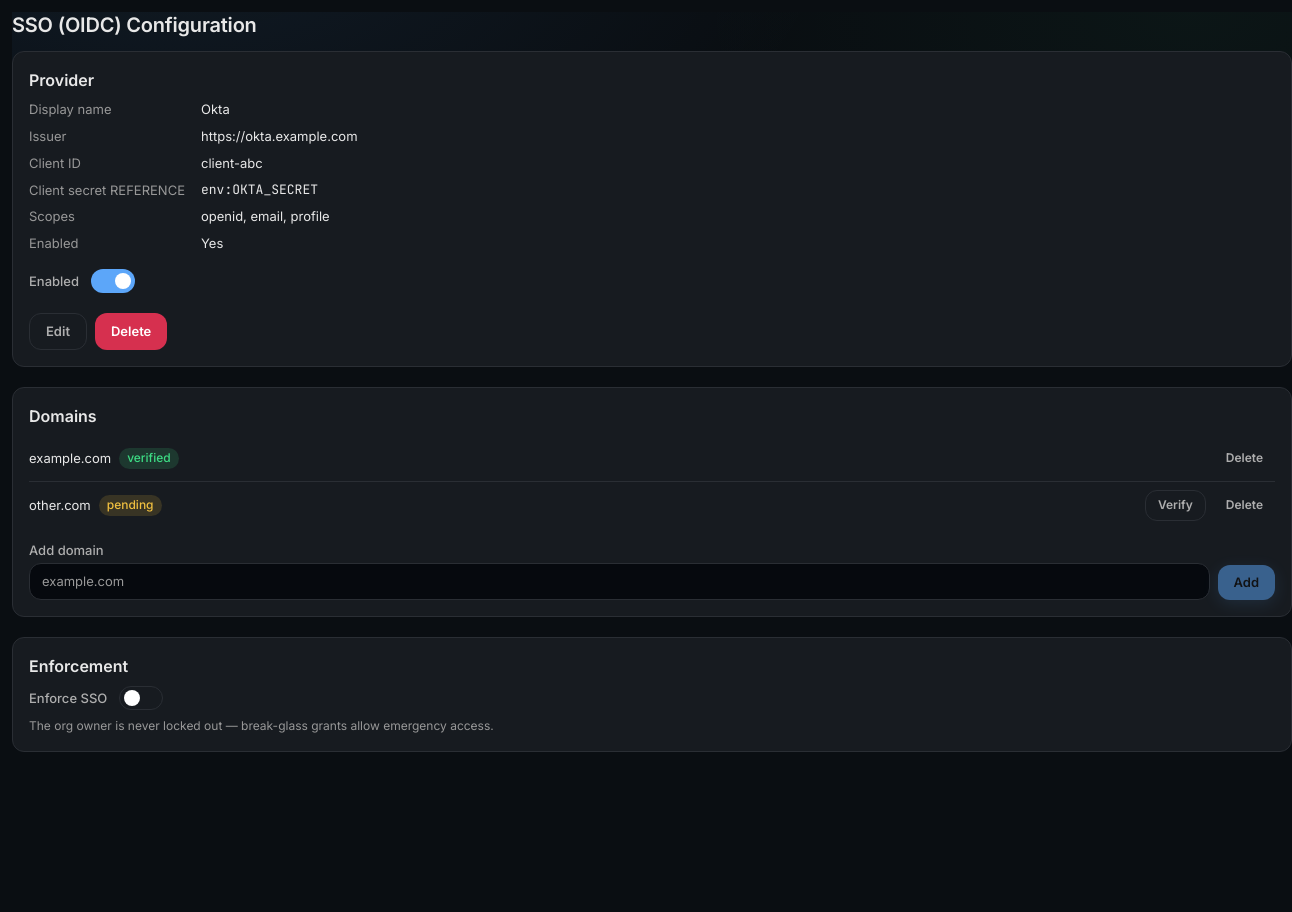
Scenario: SsoTab › adding a domain shows txt_record callout
Type domain and submit
Type "new.com" into the field labelled "Add domain".
click(619, 582); type("new.com")  # box x1=29 y1=563 x2=1210 y2=600
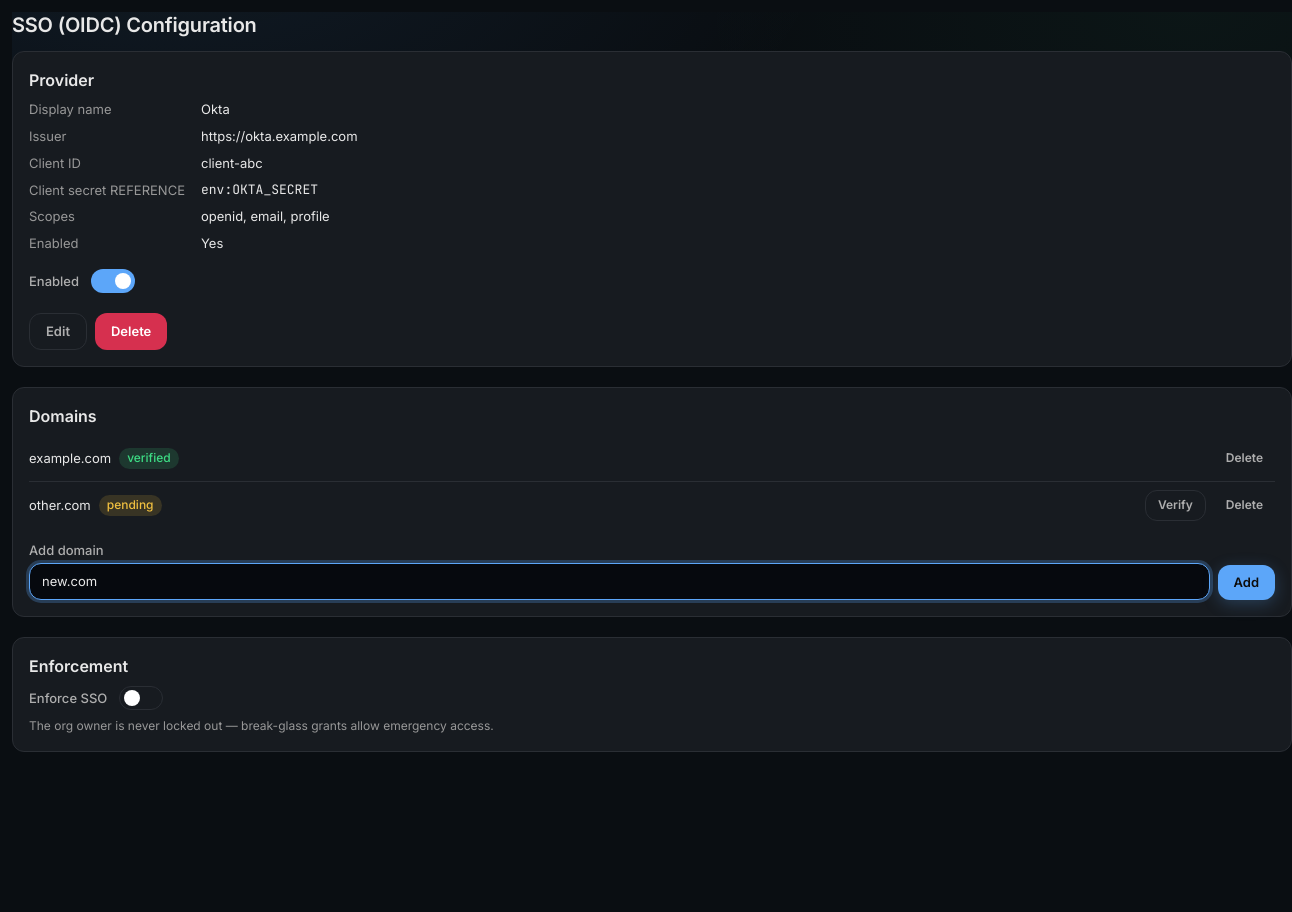
Click the button "Add".
click(1246, 583)  # box x1=1218 y1=565 x2=1275 y2=600
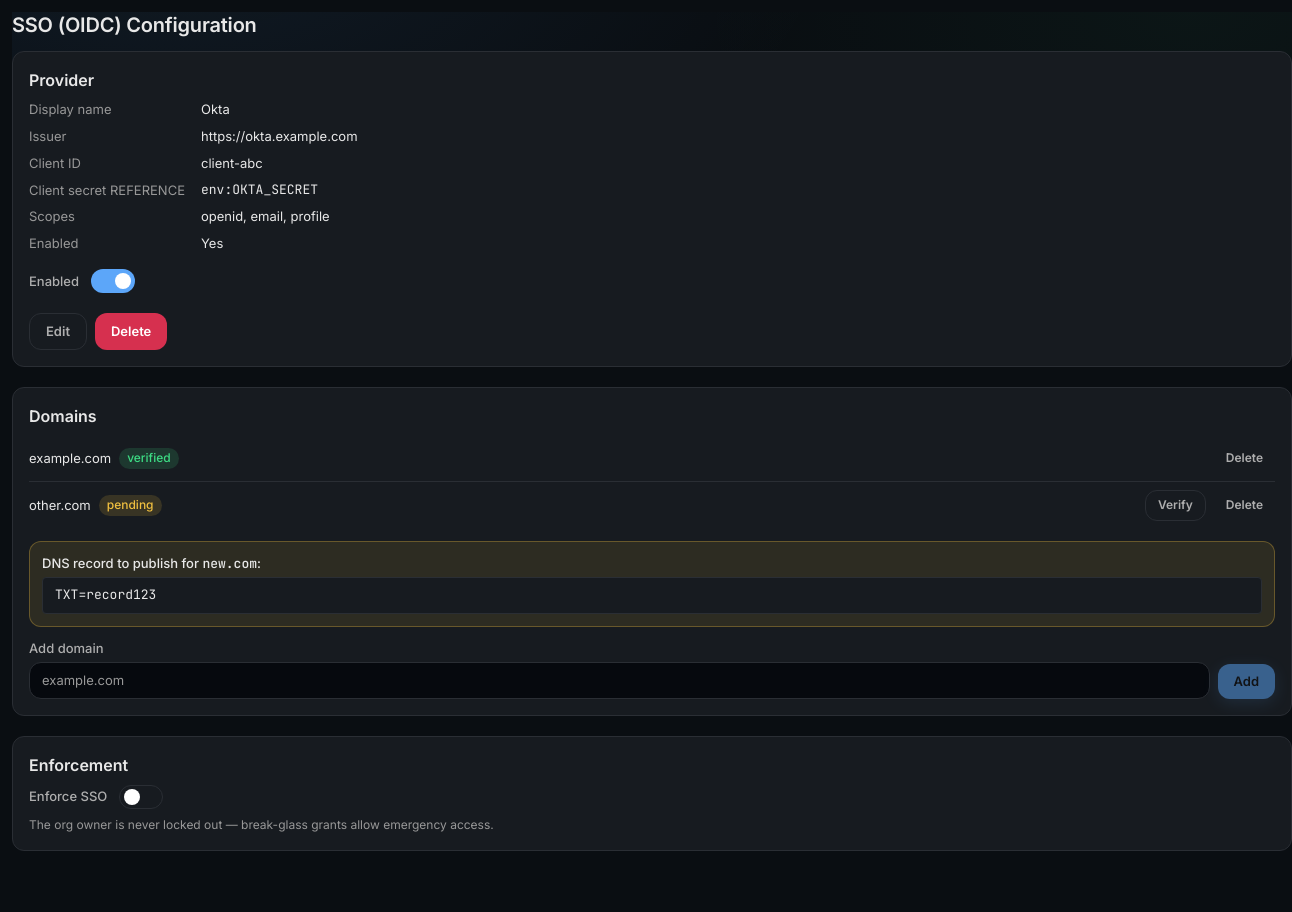
expect the element with test id "txt-record-callout" is shown: met, box x1=29 y1=540 x2=1275 y2=627
expect the text with test id "txt-record-value" reads "TXT=record123": met, box x1=55 y1=586 x2=156 y2=603
